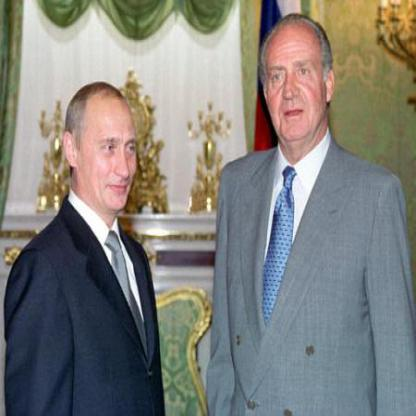face: (77, 87, 144, 215), (265, 19, 328, 148)
